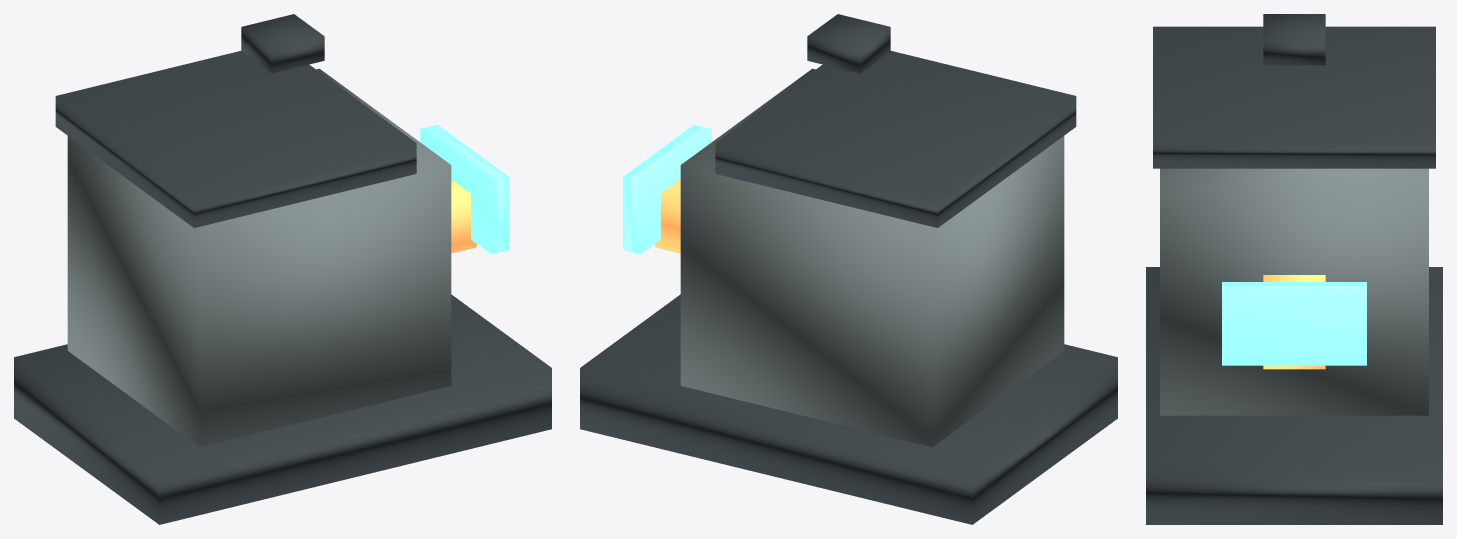
File: spin-habitat-attitude-flywheel-lod1.glb
3 views of the same model, side by side, from view 1: azimuth 30°, elevation 25°; view 2: azimuth 150°, elevation 25°; view 3: azimuth 270°, elevation 25° (orthographic). The views are drawn at different scales.
Parts seen in each view (by area): view 1: spin-habitat-attitude-flywheel-cage, spin-habitat-attitude-flywheel-skid, spin-habitat-attitude-flywheel-guard, spin-habitat-interactable-status, objective-beacon-mount, spin-habitat-attitude-flywheel-axle; view 2: spin-habitat-attitude-flywheel-cage, spin-habitat-attitude-flywheel-skid, spin-habitat-attitude-flywheel-guard, spin-habitat-interactable-status, objective-beacon-mount, spin-habitat-attitude-flywheel-axle; view 3: spin-habitat-attitude-flywheel-cage, spin-habitat-attitude-flywheel-guard, spin-habitat-attitude-flywheel-skid, spin-habitat-interactable-status, objective-beacon-mount, spin-habitat-attitude-flywheel-axle.
Boxes of the visible parts, box(x1,y1,x2,y2) form: spin-habitat-attitude-flywheel-cage: box(67, 68, 451, 447); spin-habitat-attitude-flywheel-skid: box(14, 294, 551, 524); spin-habitat-attitude-flywheel-guard: box(55, 51, 416, 227); spin-habitat-interactable-status: box(420, 124, 508, 254); objective-beacon-mount: box(241, 14, 324, 73); spin-habitat-attitude-flywheel-axle: box(451, 179, 476, 253); spin-habitat-attitude-flywheel-cage: box(680, 68, 1064, 447); spin-habitat-attitude-flywheel-skid: box(580, 294, 1117, 524); spin-habitat-attitude-flywheel-guard: box(715, 51, 1076, 227); spin-habitat-interactable-status: box(623, 124, 711, 254); objective-beacon-mount: box(807, 14, 890, 73); spin-habitat-attitude-flywheel-axle: box(655, 179, 680, 253); spin-habitat-attitude-flywheel-cage: box(1160, 168, 1428, 415); spin-habitat-attitude-flywheel-guard: box(1153, 26, 1435, 168); spin-habitat-attitude-flywheel-skid: box(1146, 267, 1442, 524); spin-habitat-interactable-status: box(1222, 282, 1366, 365); objective-beacon-mount: box(1263, 14, 1325, 65); spin-habitat-attitude-flywheel-axle: box(1263, 275, 1325, 369).
Bounding box in the file's own units: 1.34 × 1.28 × 0.86.
